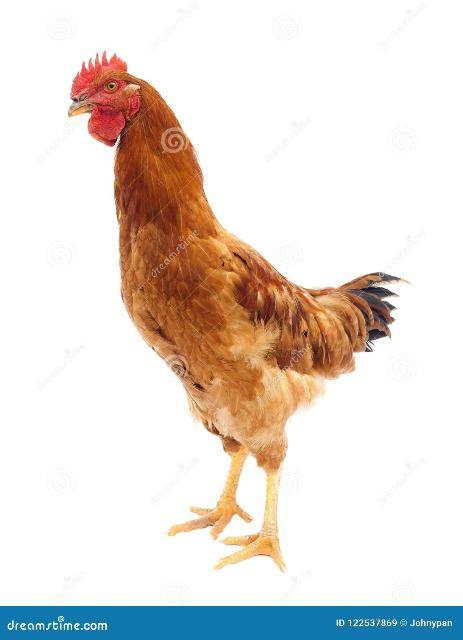Chicken: (68, 49, 413, 574)
